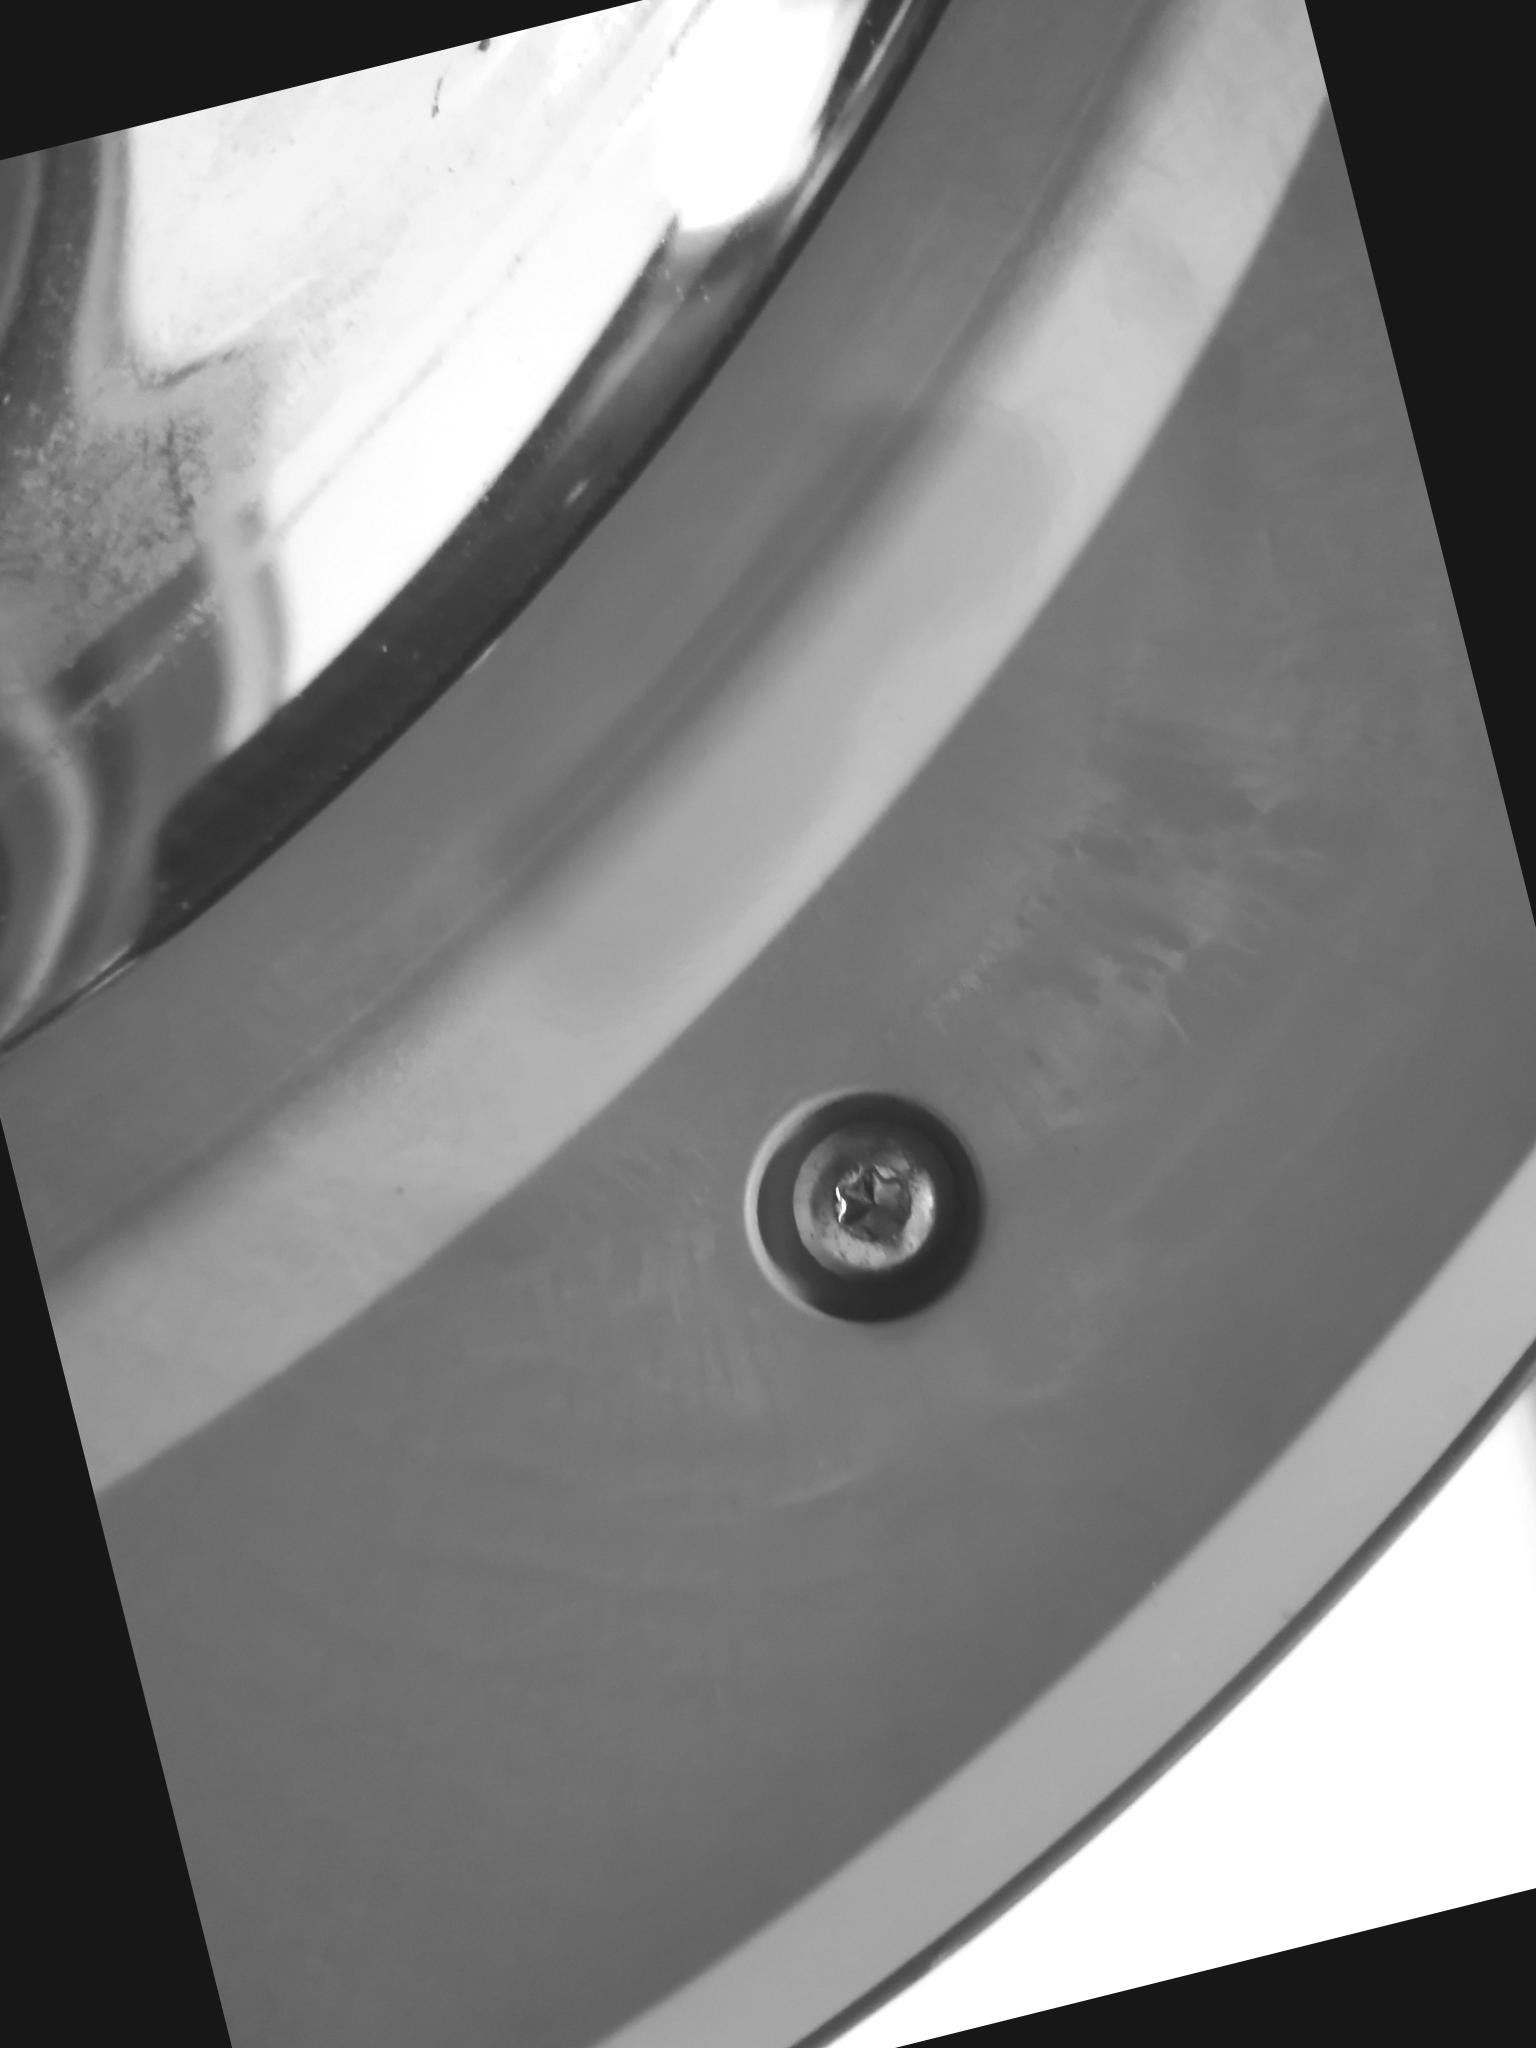torx: (753, 1089, 991, 1308)
